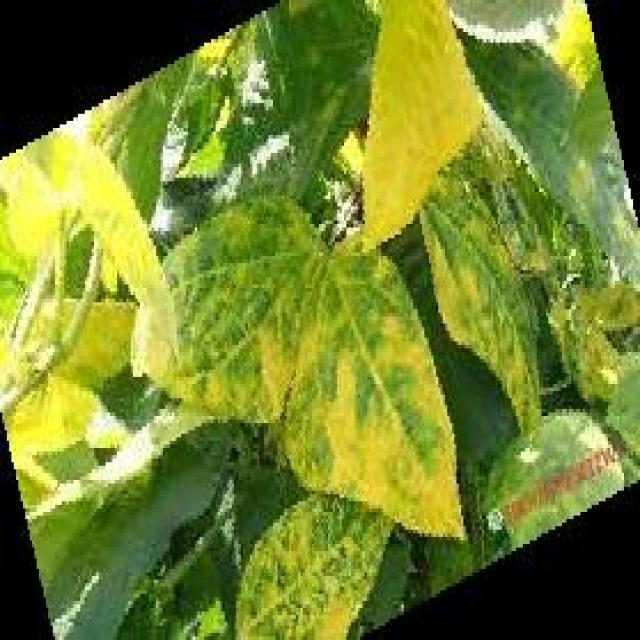Rust: (274, 239, 464, 542)
